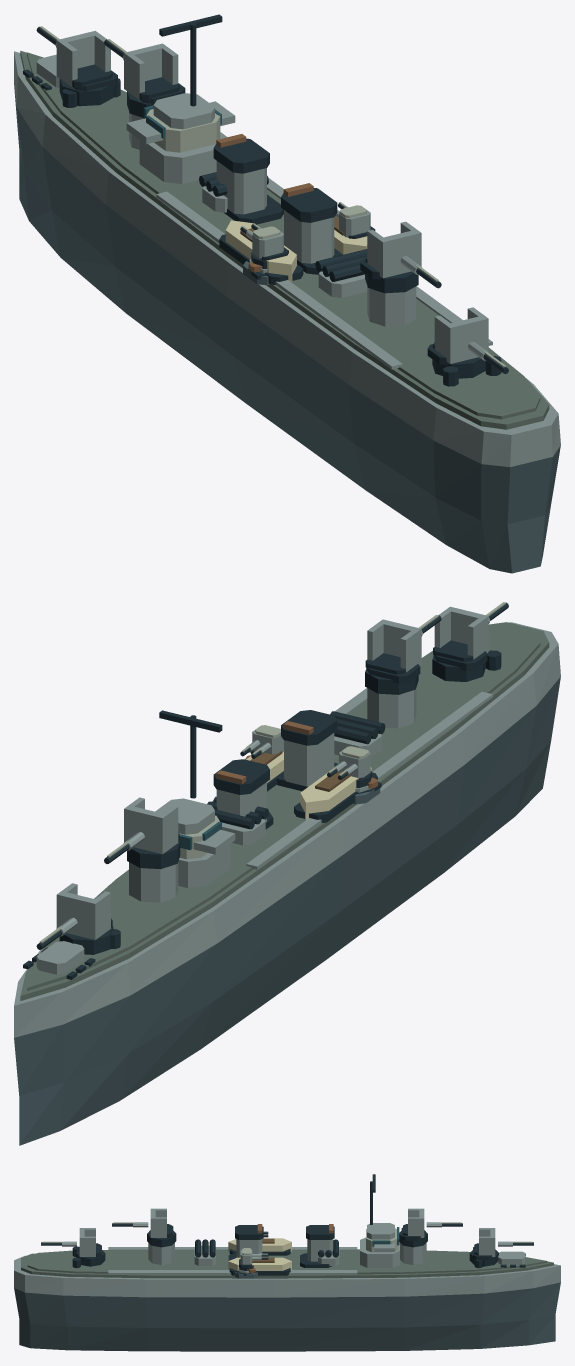
The model's file is historic-dubrovnik.glb.
The picture shows the model from 3 angles, top to bottom: view 1: azimuth 30°, elevation 25°; view 2: azimuth 150°, elevation 25°; view 3: azimuth 270°, elevation 25°; orthographic projection. The views are drawn at different scales.
Visible parts, largest first — view 1: historic-dubrovnik-historic-dubrovnik-geometry, historic-dubrovnik-part_bridge.062-geometry, historic-dubrovnik-historic_funnel_0.064-geometry, historic-dubrovnik-historic_funnel_1.035-geometry, historic-dubrovnik-turret_main_0.053-geometry, historic-dubrovnik-turret_main_2.046-geometry, historic-dubrovnik-turret_main_3.028-geometry, historic-dubrovnik-turret_main_1.051-geometry, historic-dubrovnik-torpedo_bank_0.021-geometry, historic-dubrovnik-turret_aa_aa-port.065-geometry, historic-dubrovnik-turret_aa_aa-starboard.062-geometry, historic-dubrovnik-torpedo_bank_1.018-geometry; view 2: historic-dubrovnik-historic-dubrovnik-geometry, historic-dubrovnik-part_bridge.062-geometry, historic-dubrovnik-turret_main_2.046-geometry, historic-dubrovnik-turret_main_3.028-geometry, historic-dubrovnik-historic_funnel_1.035-geometry, historic-dubrovnik-turret_main_1.051-geometry, historic-dubrovnik-turret_main_0.053-geometry, historic-dubrovnik-historic_funnel_0.064-geometry, historic-dubrovnik-torpedo_bank_0.021-geometry, historic-dubrovnik-torpedo_bank_1.018-geometry, historic-dubrovnik-turret_aa_aa-port.065-geometry, historic-dubrovnik-turret_aa_aa-starboard.062-geometry; view 3: historic-dubrovnik-historic-dubrovnik-geometry, historic-dubrovnik-part_bridge.062-geometry, historic-dubrovnik-historic_funnel_0.064-geometry, historic-dubrovnik-turret_main_2.046-geometry, historic-dubrovnik-turret_main_1.051-geometry, historic-dubrovnik-turret_main_3.028-geometry, historic-dubrovnik-turret_main_0.053-geometry, historic-dubrovnik-historic_funnel_1.035-geometry, historic-dubrovnik-torpedo_bank_0.021-geometry, historic-dubrovnik-turret_aa_aa-starboard.062-geometry, historic-dubrovnik-torpedo_bank_1.018-geometry.
Part boxes in pixels (box(x1,y1,x2,y2)): historic-dubrovnik-historic-dubrovnik-geometry: box(14, 50, 560, 573); historic-dubrovnik-part_bridge.062-geometry: box(126, 14, 235, 183); historic-dubrovnik-historic_funnel_0.064-geometry: box(213, 134, 283, 224); historic-dubrovnik-historic_funnel_1.035-geometry: box(281, 183, 342, 274); historic-dubrovnik-turret_main_0.053-geometry: box(36, 26, 117, 106); historic-dubrovnik-turret_main_2.046-geometry: box(360, 221, 441, 293); historic-dubrovnik-turret_main_3.028-geometry: box(427, 307, 508, 378); historic-dubrovnik-turret_main_1.051-geometry: box(104, 39, 185, 117); historic-dubrovnik-torpedo_bank_0.021-geometry: box(315, 249, 367, 297); historic-dubrovnik-turret_aa_aa-port.065-geometry: box(240, 223, 288, 268); historic-dubrovnik-turret_aa_aa-starboard.062-geometry: box(335, 202, 375, 238); historic-dubrovnik-torpedo_bank_1.018-geometry: box(199, 172, 268, 212); historic-dubrovnik-historic-dubrovnik-geometry: box(14, 622, 560, 1145); historic-dubrovnik-part_bridge.062-geometry: box(155, 710, 235, 888); historic-dubrovnik-turret_main_2.046-geometry: box(365, 615, 441, 694); historic-dubrovnik-turret_main_3.028-geometry: box(432, 602, 508, 681); historic-dubrovnik-historic_funnel_1.035-geometry: box(276, 710, 337, 791); historic-dubrovnik-turret_main_1.051-geometry: box(104, 797, 180, 869); historic-dubrovnik-turret_main_0.053-geometry: box(36, 883, 113, 954); historic-dubrovnik-historic_funnel_0.064-geometry: box(213, 759, 273, 829); historic-dubrovnik-torpedo_bank_0.021-geometry: box(330, 711, 385, 757); historic-dubrovnik-torpedo_bank_1.018-geometry: box(207, 796, 268, 845); historic-dubrovnik-turret_aa_aa-port.065-geometry: box(327, 746, 371, 788); historic-dubrovnik-turret_aa_aa-starboard.062-geometry: box(240, 725, 283, 758); historic-dubrovnik-historic-dubrovnik-geometry: box(14, 1238, 560, 1351); historic-dubrovnik-part_bridge.062-geometry: box(360, 1174, 399, 1267); historic-dubrovnik-historic_funnel_0.064-geometry: box(300, 1224, 334, 1267); historic-dubrovnik-turret_main_2.046-geometry: box(112, 1208, 176, 1247); historic-dubrovnik-turret_main_1.051-geometry: box(399, 1208, 462, 1247); historic-dubrovnik-turret_main_3.028-geometry: box(41, 1228, 105, 1266); historic-dubrovnik-turret_main_0.053-geometry: box(469, 1228, 533, 1266); historic-dubrovnik-historic_funnel_1.035-geometry: box(228, 1224, 263, 1260); historic-dubrovnik-torpedo_bank_0.021-geometry: box(194, 1239, 215, 1265); historic-dubrovnik-turret_aa_aa-starboard.062-geometry: box(239, 1248, 268, 1270); historic-dubrovnik-torpedo_bank_1.018-geometry: box(318, 1239, 339, 1265).
Size of the model in its own units: 0.5749 by 1.32 by 4.11.
